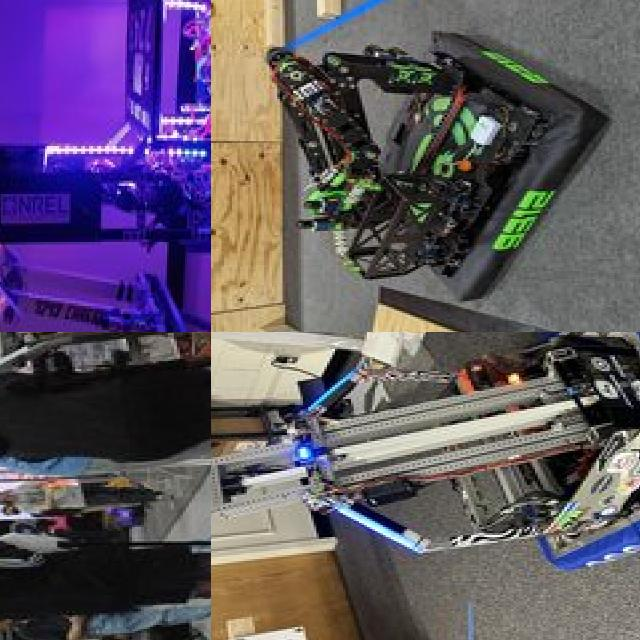FRC-Robots: (211, 332, 640, 615), (249, 0, 640, 307), (0, 0, 211, 332), (0, 332, 211, 411)
